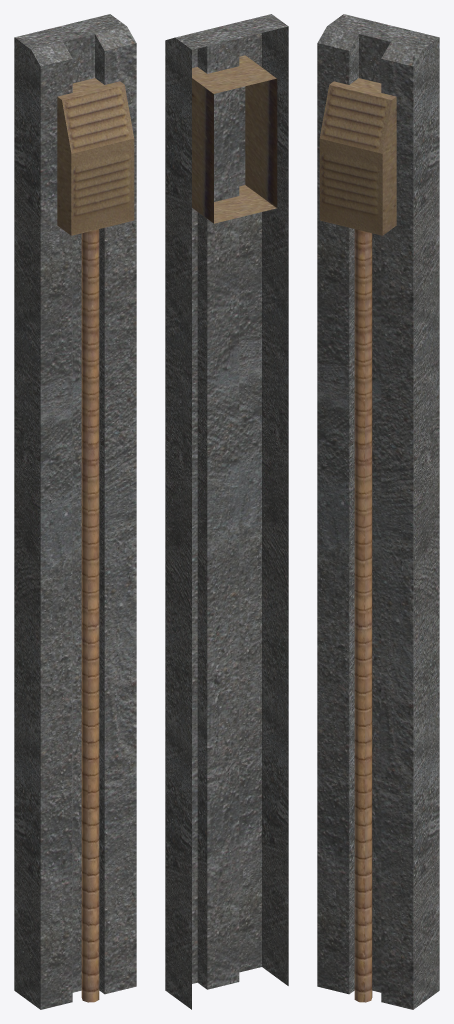
Rendered from wall_thing.fbx.
3 renders of one model, left to right at view 1: azimuth 30°, elevation 25°; view 2: azimuth 210°, elevation 25°; view 3: azimuth 330°, elevation 25°, orthographic.
Visible parts, largest first — view 1: wall_thing; view 2: wall_thing; view 3: wall_thing.
Part boxes in pixels (x1,y1,x2,y2): wall_thing: (14,14,136,1009); wall_thing: (165,14,288,1009); wall_thing: (317,14,439,1009).
Bounding box in the file's own units: 32.39 × 308 × 26.79.
